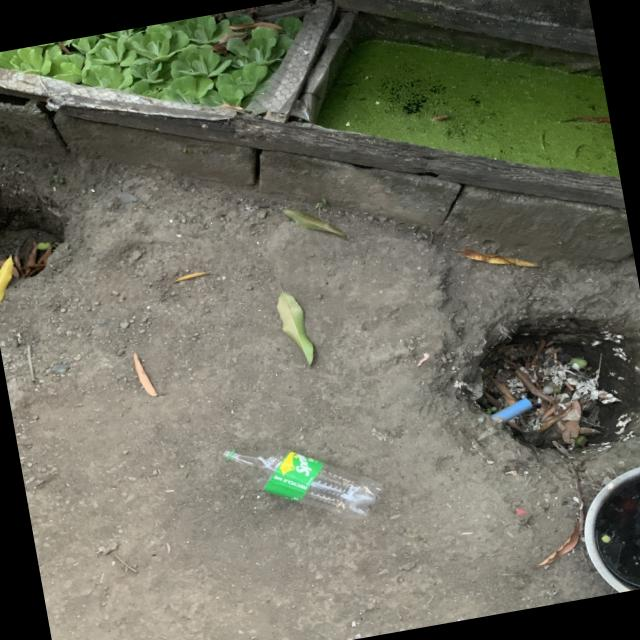Bottle: (221, 448, 383, 518)
